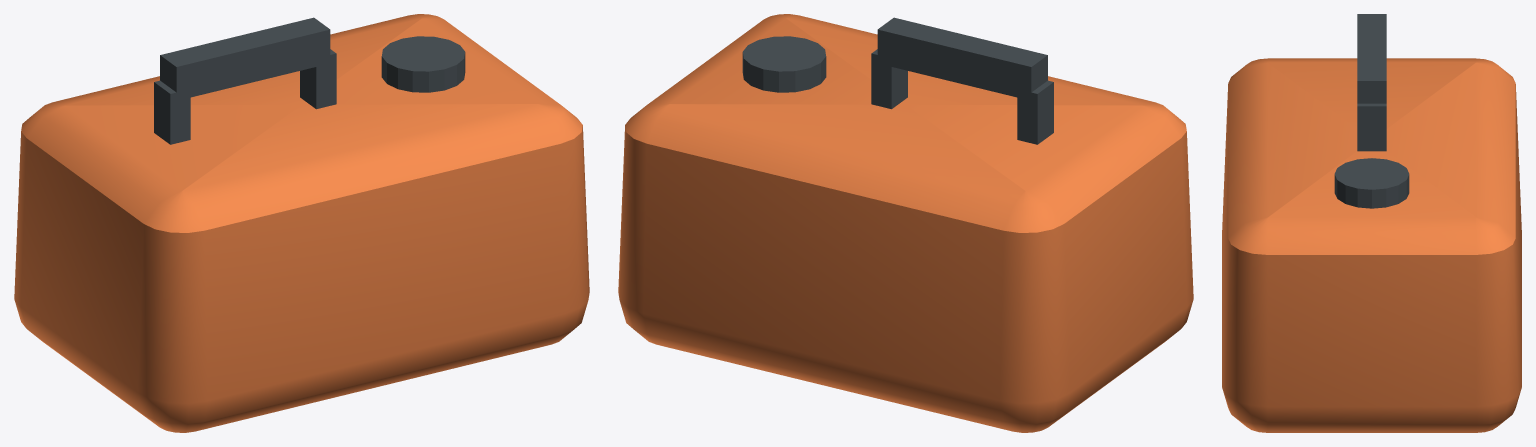
File: powerboat-racing-and-launch-ramp-portable-fuel-tank-c796cd34__22269.glb
The picture shows the model from 3 angles, left to right: view 1: azimuth 30°, elevation 25°; view 2: azimuth 150°, elevation 25°; view 3: azimuth 270°, elevation 25°; orthographic projection. The views are drawn at different scales.
Parts seen in each view (by area): view 1: portable-fuel-tank; view 2: portable-fuel-tank; view 3: portable-fuel-tank.
Boxes of the visible parts, x1=… form: portable-fuel-tank: x1=14, y1=14, x2=589, y2=432; portable-fuel-tank: x1=618, y1=14, x2=1193, y2=432; portable-fuel-tank: x1=1222, y1=14, x2=1521, y2=432.
Size of the model in its own units: 0.55 by 0.37 by 0.36.
